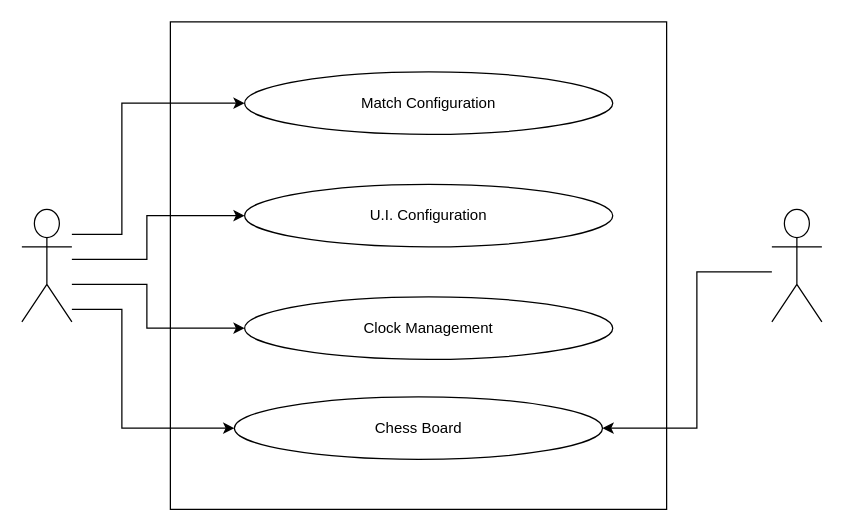
Image size: 844x531. Some labels were removed from this diagram. The box of each missing label's shape, as (x1, y1, x2, y2) in pixels:
A.I.: (771, 208, 822, 322)
Player: (21, 208, 72, 322)
